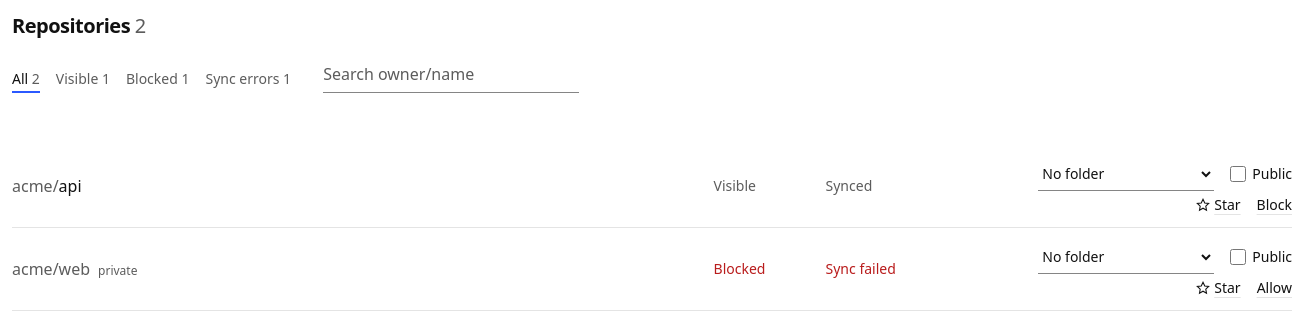
Test case: RepoAccessManager › folder control (optional) › assigns, moves and clears a folder through PATCH, announcing each
Select "Payments" in the dropdown named "Folder for acme/api" at coordinates (1126, 174), box [1038,157,1214,191]
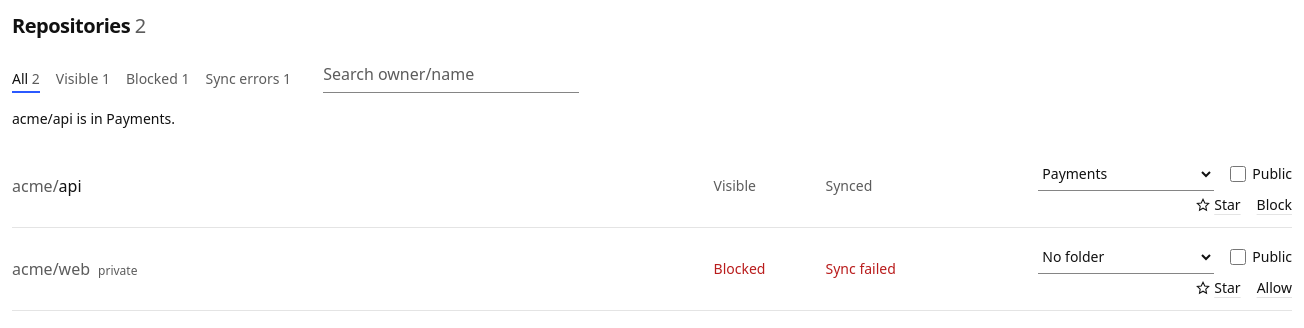
expect the text "acme/api is in Payments." is shown: met, box [12,109,175,128]
Select "Ops" in the dropdown named "Folder for acme/api" at coordinates (1126, 174), box [1038,157,1214,191]
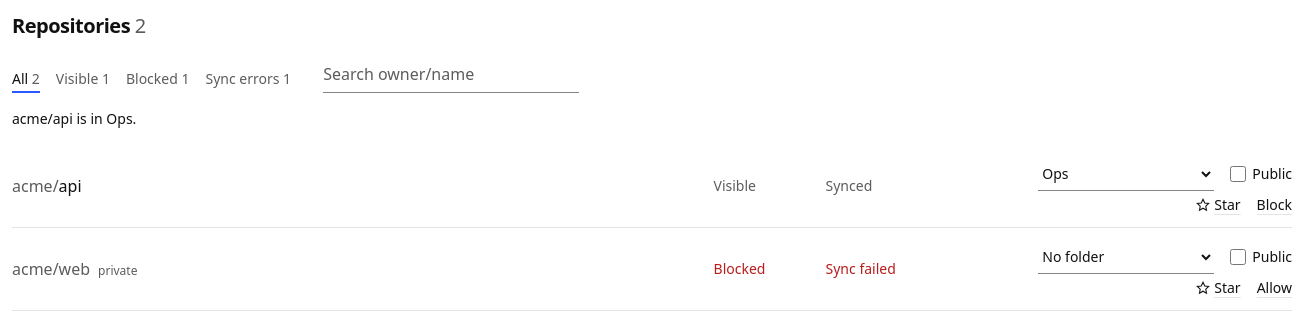
Select "No folder" in the dropdown named "Folder for acme/api" at coordinates (1126, 174), box [1038,157,1214,191]
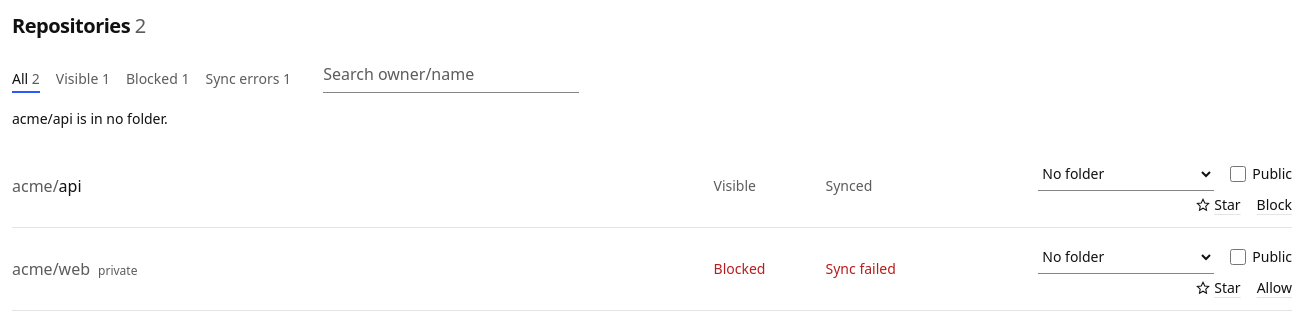
expect the text "acme/api is in no folder." is shown: met, box [12,109,168,128]
